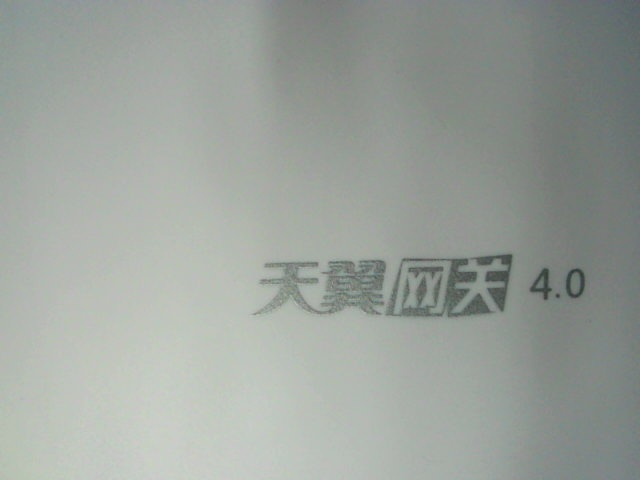BM_TianYiWangGuan: (247, 252, 599, 316)
